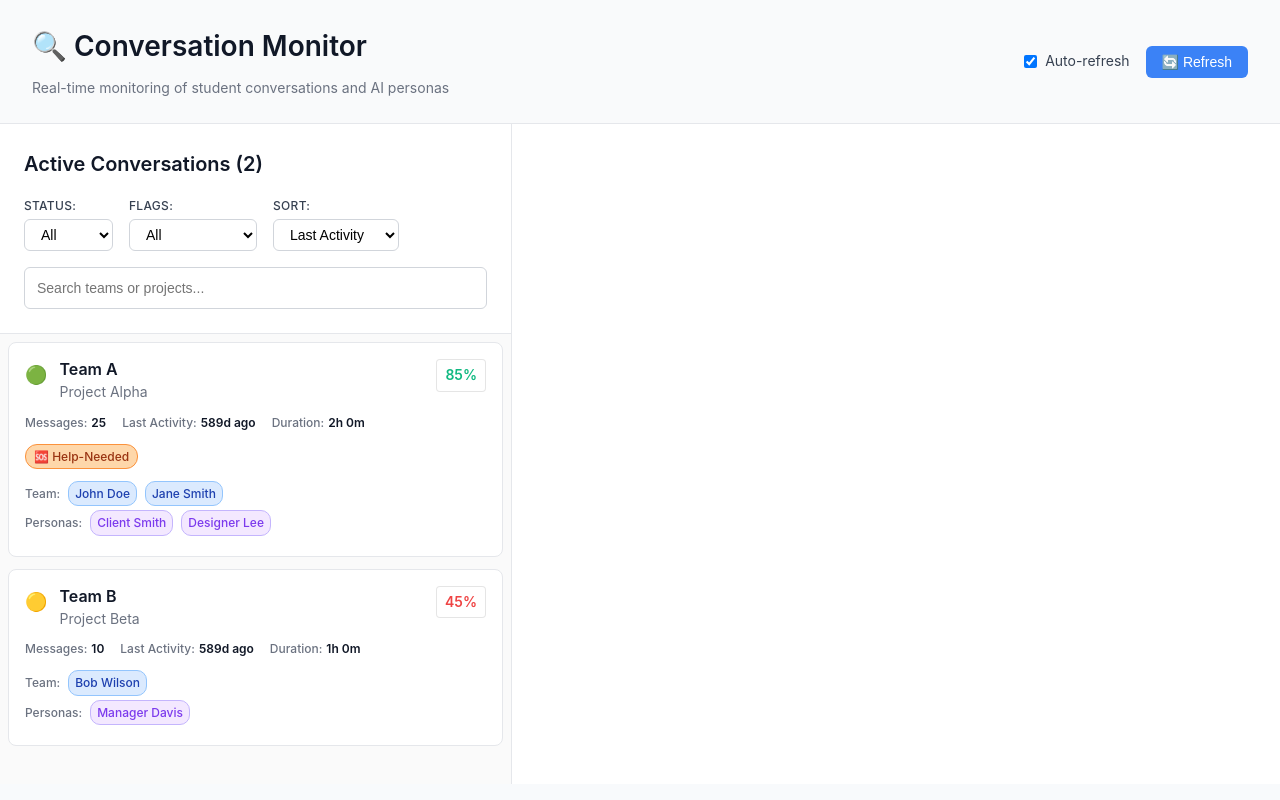
it: ConversationMonitor › Conversation Selection and Details › should select conversation when clicked
The width and height of the screenshot is (1280, 800).
Expected: the heading "Team A" is shown, [60,359,118,379]
Click the text "Team A". click: (256, 450)
box: [8,342,503,557]
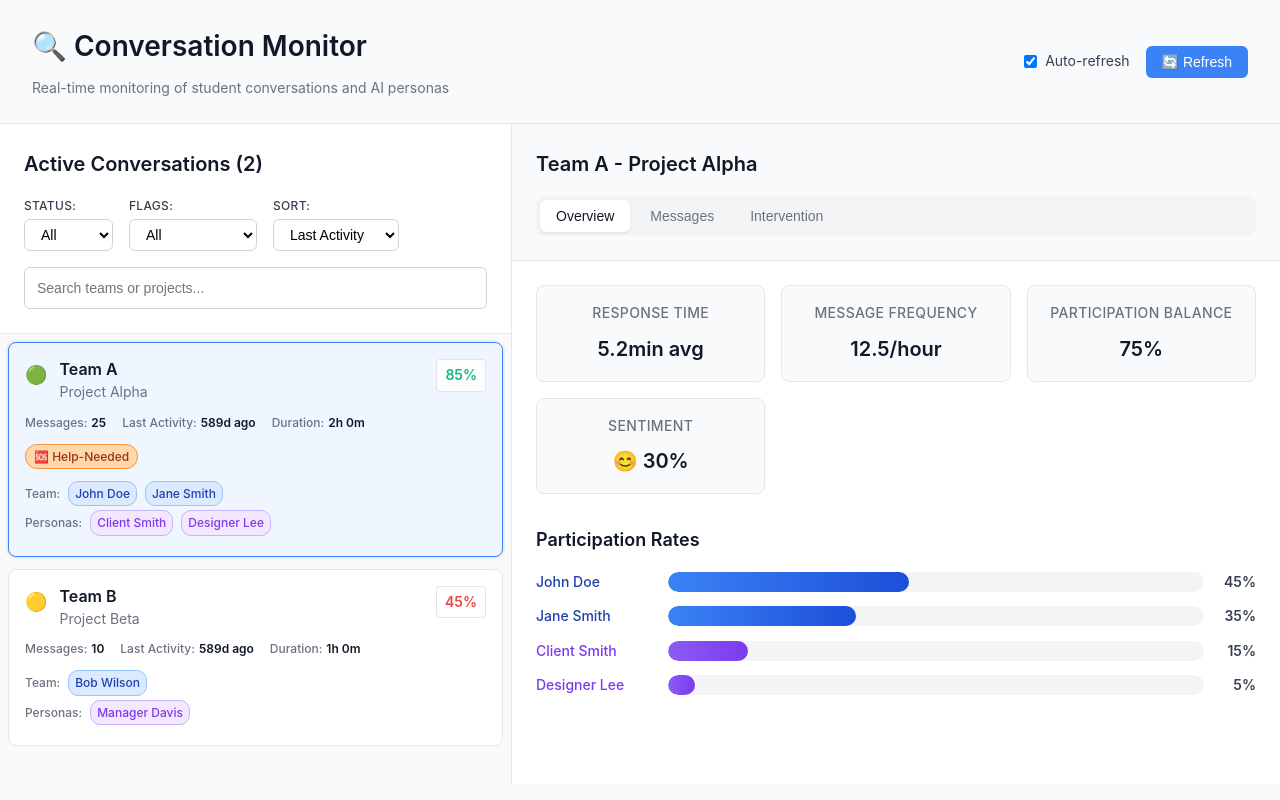
Expected: the heading "Team A - Project Alpha" is shown, [536,152,758,176]
